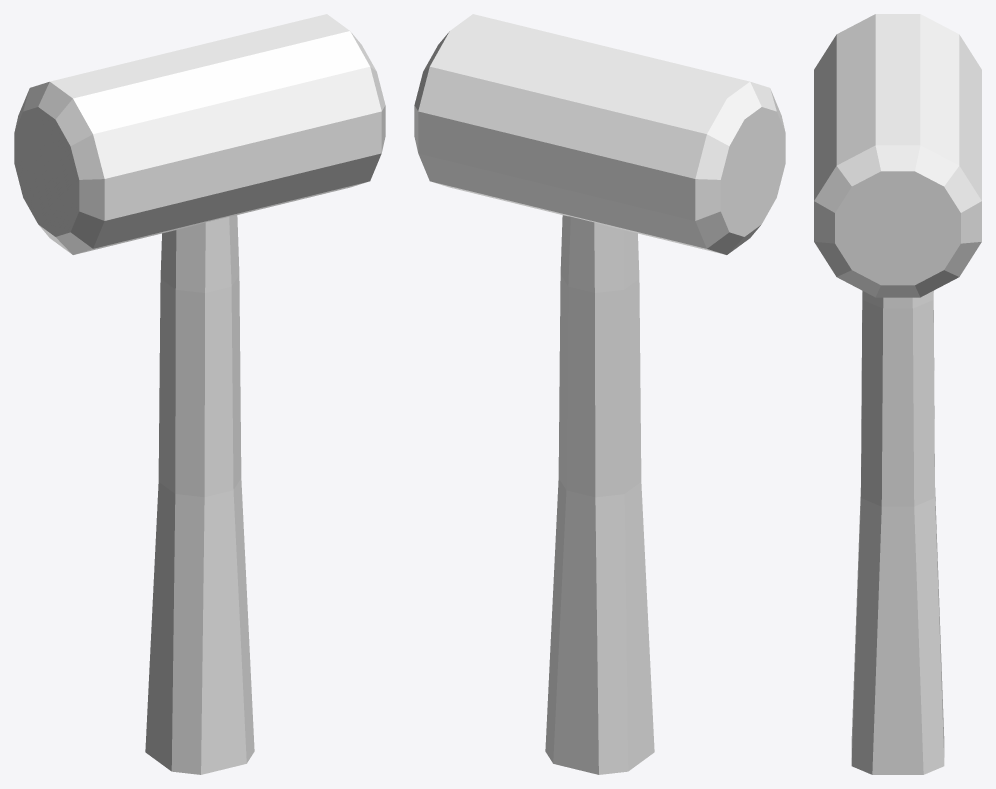
File: Tool_Hammer_06.glb
3 renders of one model, left to right at view 1: azimuth 30°, elevation 25°; view 2: azimuth 150°, elevation 25°; view 3: azimuth 270°, elevation 25°, orthographic. The views are drawn at different scales.
Visible parts, largest first — view 1: Tool_Hammer_06; view 2: Tool_Hammer_06; view 3: Tool_Hammer_06.
Part boxes in pixels (x1,y1,x2,y2): Tool_Hammer_06: [14, 14, 385, 774]; Tool_Hammer_06: [414, 14, 785, 774]; Tool_Hammer_06: [814, 14, 981, 774].
Bounding box in the file's own units: 0.1428 × 0.3099 × 0.0698.
1 material, 1 textured.
